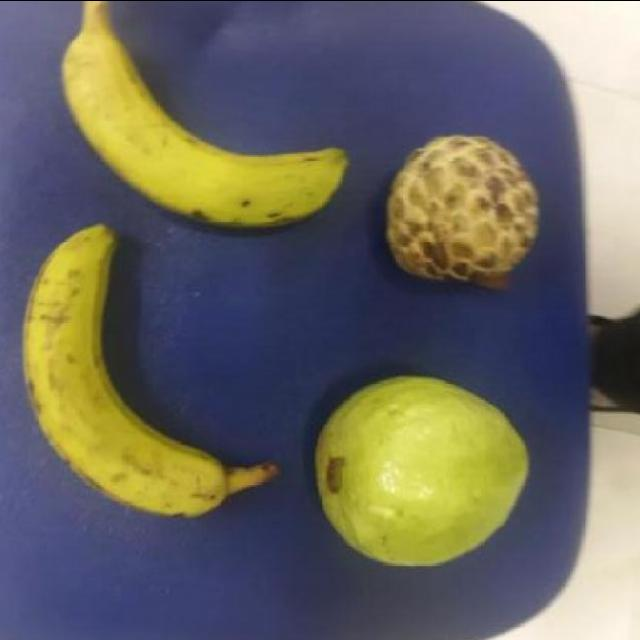banana: (24, 226, 230, 528), (62, 29, 342, 235)
guava: (312, 380, 524, 578)
sugar apple: (386, 134, 542, 294)
